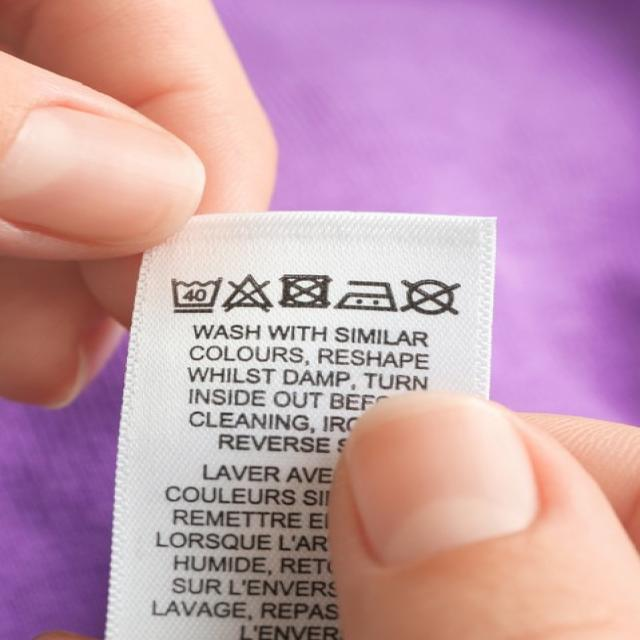40C: (169, 271, 224, 319)
DN_bleach: (223, 272, 273, 313)
DN_dry_clean: (400, 273, 469, 318)
DN_tumble_dry: (280, 269, 335, 313)
iron_medium: (331, 276, 398, 316)
